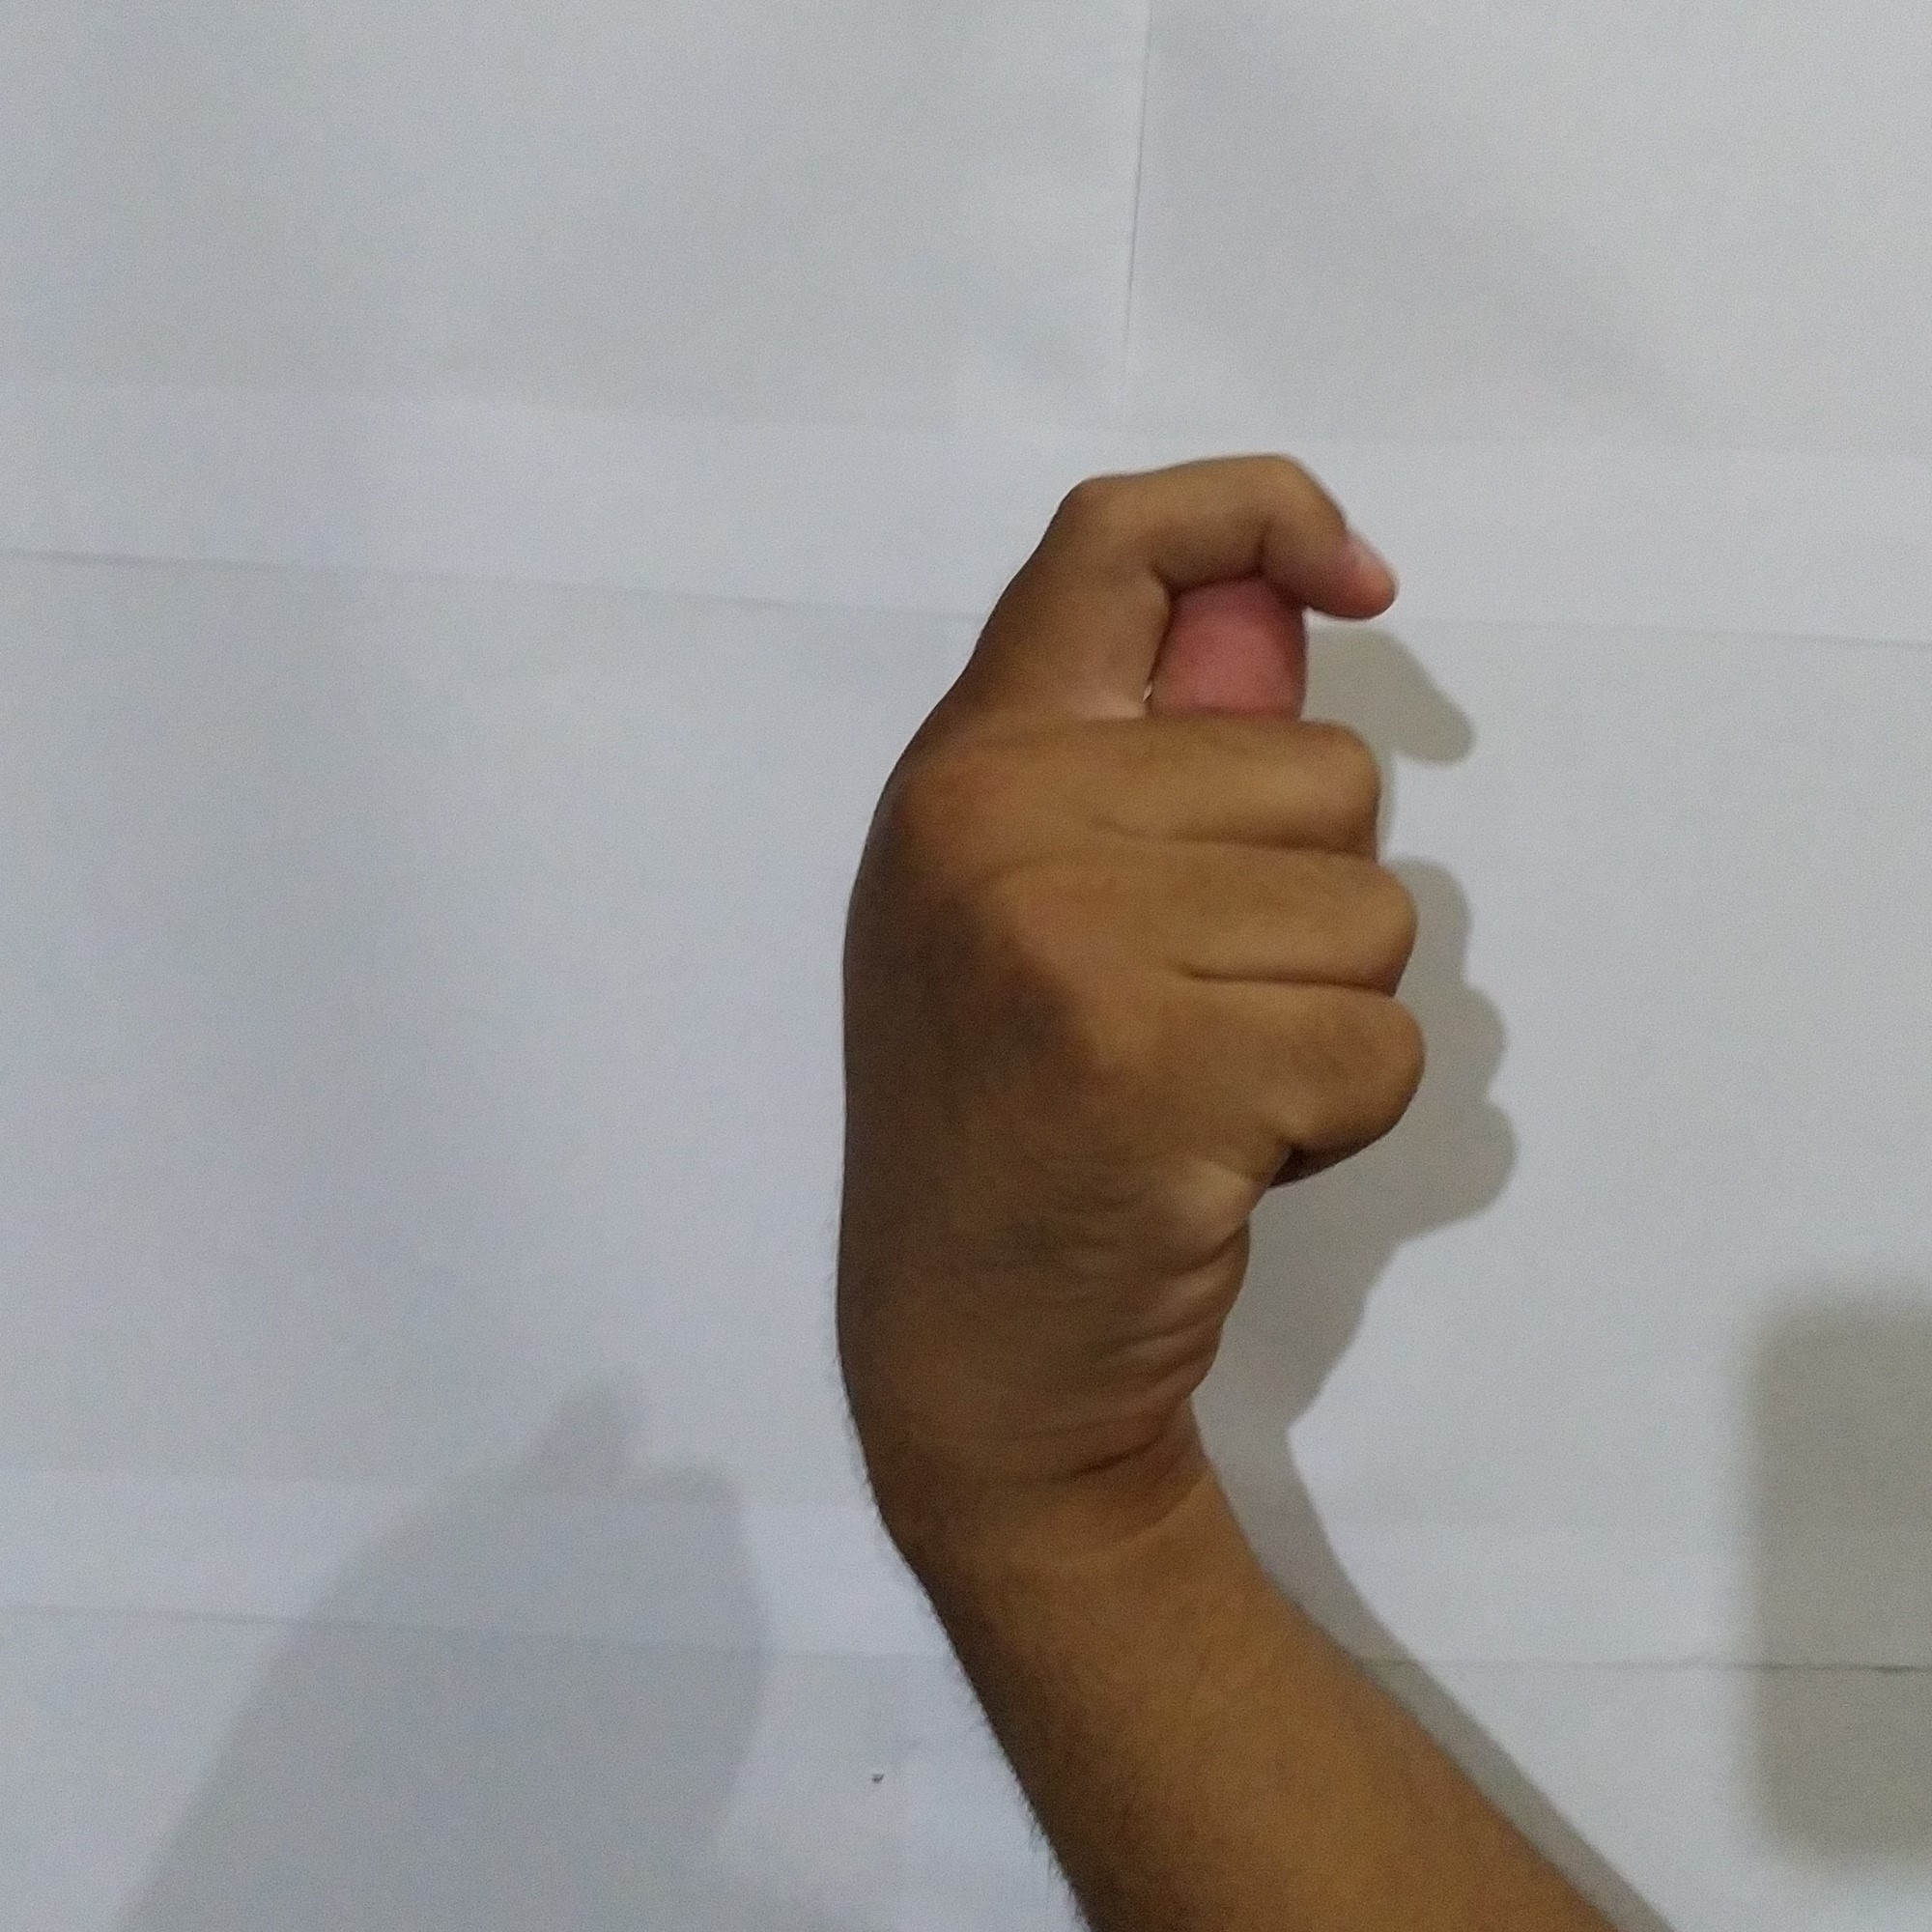T: (796, 419, 1453, 1440)
